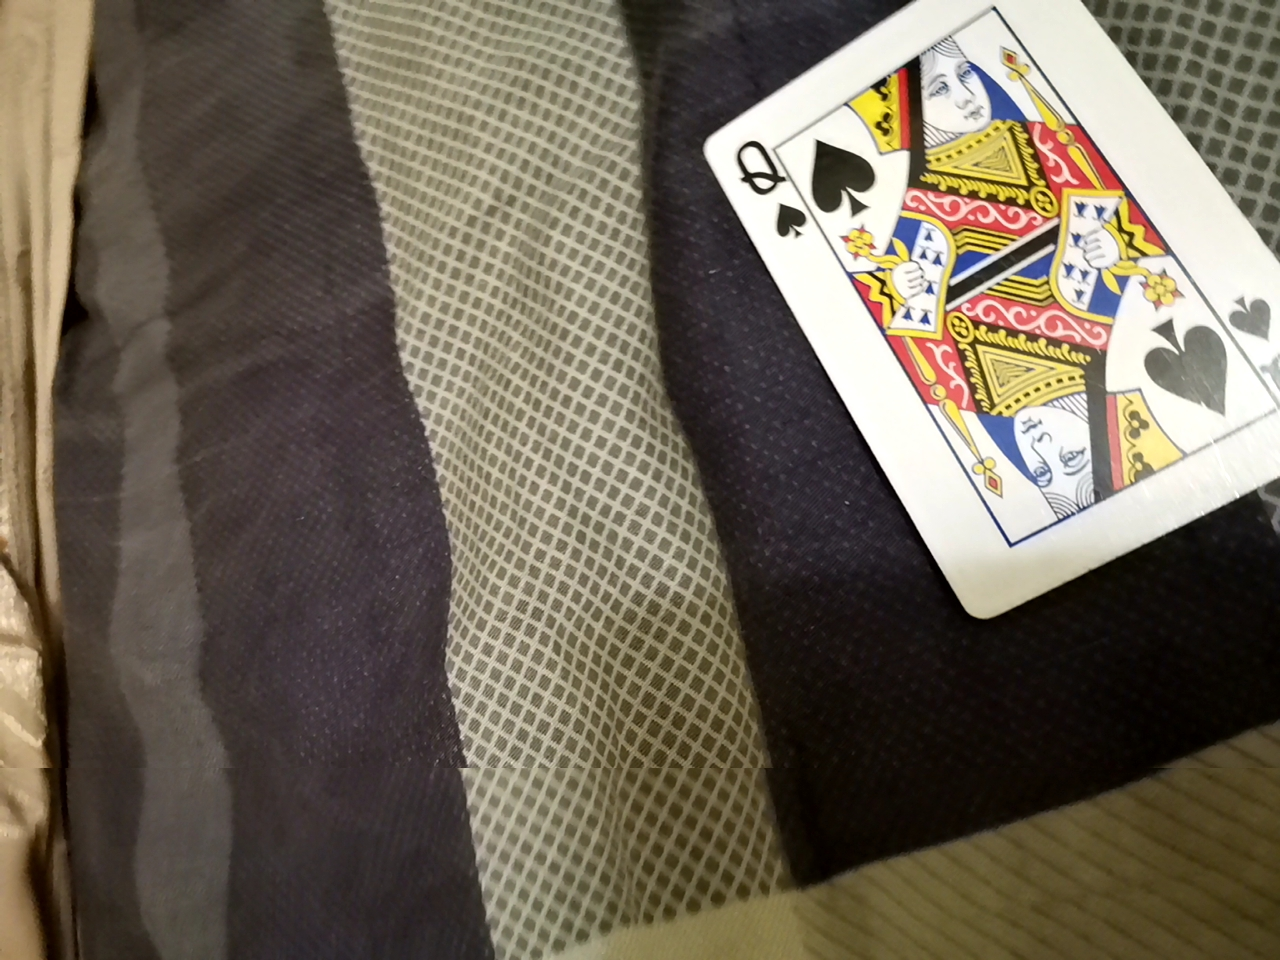ht q: (682, 0, 1273, 607)
